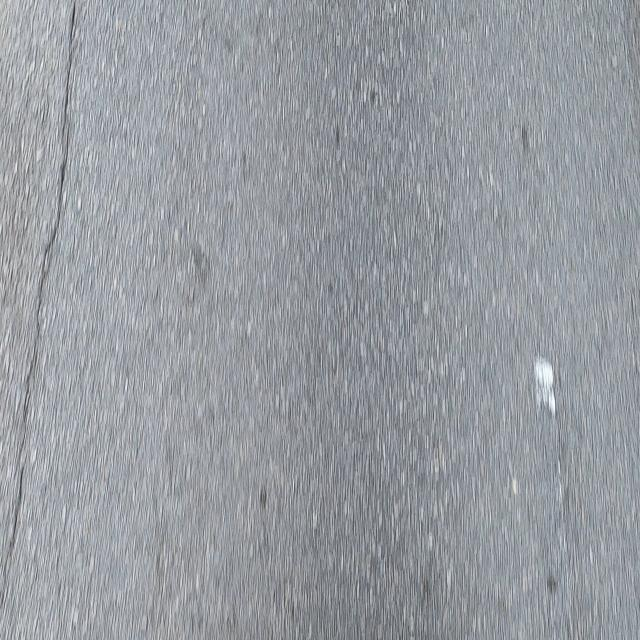Retak-Memanjang: (0, 0, 80, 613)
